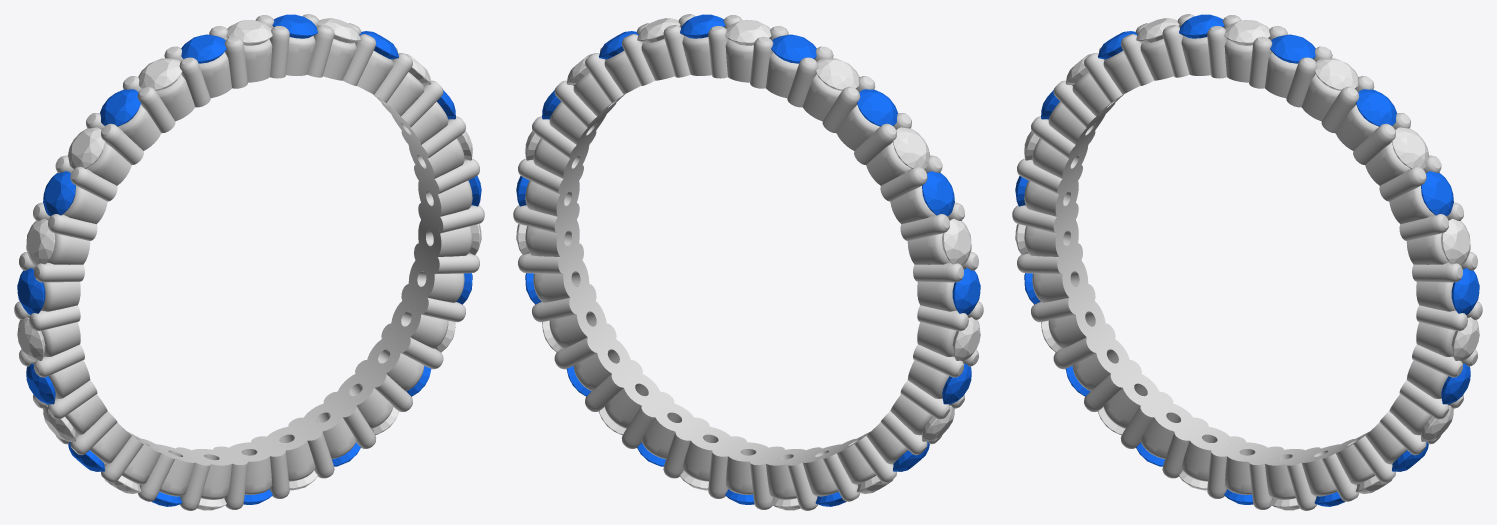
Rendered from Victoria_Wedding_Band_blender.glb.
The picture shows the model from 3 angles, left to right: view 1: azimuth 30°, elevation 25°; view 2: azimuth 150°, elevation 25°; view 3: azimuth 330°, elevation 25°; orthographic projection.
Parts seen in each view (by area): view 1: Victoria PT for 3d model, Victoria dia for 3d model.001, Victoria sapph for 3d model.001, Victoria sapph for 3d model.002, Victoria dia for 3d model, Victoria dia for 3d model.002, Victoria sapph for 3d model, Victoria sapph for 3d model.003, Victoria dia for 3d model.014, Victoria dia for 3d model.003, Victoria sapph for 3d model.014, Victoria sapph for 3d model.004 (+2 smaller); view 2: Victoria PT for 3d model, Victoria dia for 3d model.001, Victoria sapph for 3d model.001, Victoria sapph for 3d model.002, Victoria dia for 3d model, Victoria dia for 3d model.002, Victoria sapph for 3d model, Victoria sapph for 3d model.003, Victoria dia for 3d model.014, Victoria dia for 3d model.003, Victoria sapph for 3d model.014, Victoria sapph for 3d model.004 (+2 smaller); view 3: Victoria PT for 3d model, Victoria dia for 3d model.012, Victoria sapph for 3d model.013, Victoria sapph for 3d model.012, Victoria dia for 3d model.013, Victoria dia for 3d model.011, Victoria sapph for 3d model.014, Victoria sapph for 3d model.011, Victoria dia for 3d model.014, Victoria dia for 3d model.010, Victoria sapph for 3d model, Victoria sapph for 3d model.010 (+2 smaller).
Boxes of the visible parts, bbox=[...] form: Victoria PT for 3d model: bbox=[14, 14, 484, 510]; Victoria dia for 3d model.001: bbox=[67, 127, 104, 168]; Victoria sapph for 3d model.001: bbox=[100, 89, 140, 126]; Victoria sapph for 3d model.002: bbox=[43, 171, 75, 216]; Victoria dia for 3d model: bbox=[138, 58, 182, 90]; Victoria dia for 3d model.002: bbox=[26, 218, 55, 265]; Victoria sapph for 3d model: bbox=[181, 34, 226, 63]; Victoria sapph for 3d model.003: bbox=[17, 268, 45, 314]; Victoria dia for 3d model.014: bbox=[226, 20, 272, 45]; Victoria dia for 3d model.003: bbox=[17, 317, 45, 361]; Victoria sapph for 3d model.014: bbox=[272, 14, 317, 38]; Victoria sapph for 3d model.004: bbox=[26, 363, 55, 404]; Victoria PT for 3d model: bbox=[513, 14, 983, 510]; Victoria dia for 3d model.001: bbox=[893, 127, 930, 168]; Victoria sapph for 3d model.001: bbox=[857, 89, 897, 126]; Victoria sapph for 3d model.002: bbox=[922, 171, 954, 216]; Victoria dia for 3d model: bbox=[815, 58, 859, 90]; Victoria dia for 3d model.002: bbox=[942, 218, 971, 265]; Victoria sapph for 3d model: bbox=[771, 34, 816, 63]; Victoria sapph for 3d model.003: bbox=[952, 268, 980, 314]; Victoria dia for 3d model.014: bbox=[725, 20, 771, 45]; Victoria dia for 3d model.003: bbox=[952, 317, 980, 361]; Victoria sapph for 3d model.014: bbox=[680, 14, 725, 38]; Victoria sapph for 3d model.004: bbox=[942, 363, 971, 404]; Victoria PT for 3d model: bbox=[1012, 14, 1482, 510]; Victoria dia for 3d model.012: bbox=[1392, 127, 1429, 168]; Victoria sapph for 3d model.013: bbox=[1356, 89, 1396, 126]; Victoria sapph for 3d model.012: bbox=[1421, 171, 1453, 216]; Victoria dia for 3d model.013: bbox=[1314, 58, 1358, 90]; Victoria dia for 3d model.011: bbox=[1441, 218, 1470, 265]; Victoria sapph for 3d model.014: bbox=[1270, 34, 1315, 63]; Victoria sapph for 3d model.011: bbox=[1451, 268, 1479, 314]; Victoria dia for 3d model.014: bbox=[1224, 20, 1270, 45]; Victoria dia for 3d model.010: bbox=[1451, 317, 1479, 361]; Victoria sapph for 3d model: bbox=[1179, 14, 1224, 38]; Victoria sapph for 3d model.010: bbox=[1441, 363, 1470, 404].
Size of the model in its own units: 19.6 by 19.61 by 1.88.
